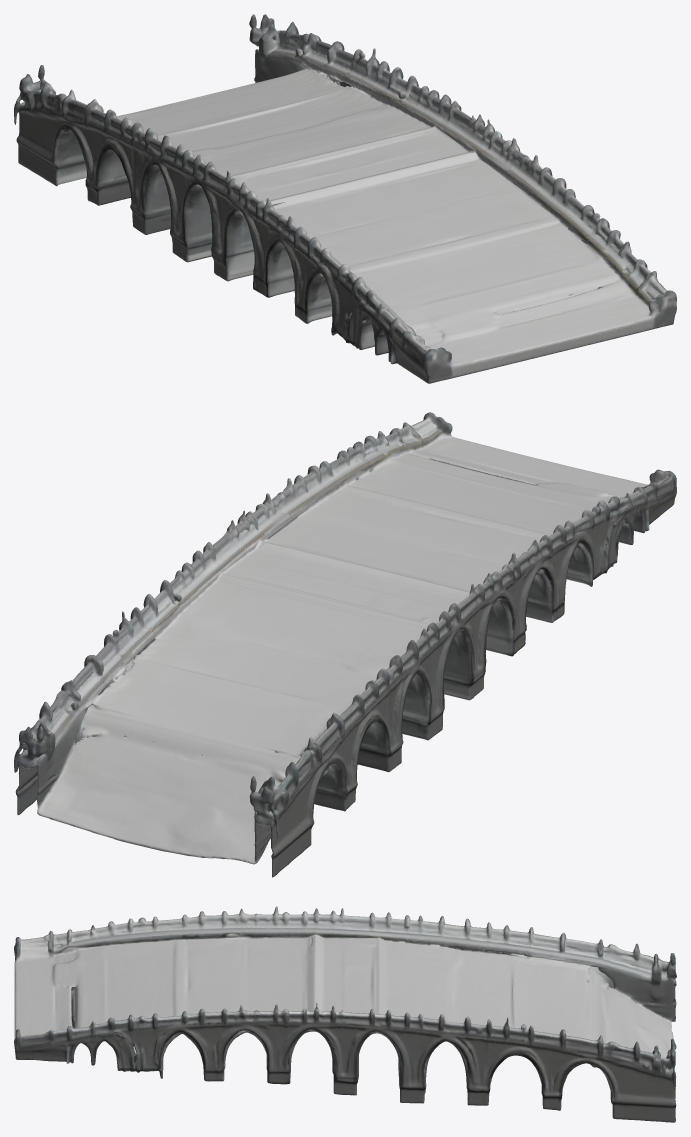
File: lugou-bridge.glb
The picture shows the model from 3 angles, top to bottom: view 1: azimuth 30°, elevation 25°; view 2: azimuth 150°, elevation 25°; view 3: azimuth 270°, elevation 25°; orthographic projection. The views are drawn at different scales.
Visible parts, largest first — view 1: tripo_node_608aade4-a2f9-43ad-8853-67d64362144b; view 2: tripo_node_608aade4-a2f9-43ad-8853-67d64362144b; view 3: tripo_node_608aade4-a2f9-43ad-8853-67d64362144b.
Boxes of the visible parts, x1,y1,x2,y2 form: tripo_node_608aade4-a2f9-43ad-8853-67d64362144b: [14, 14, 676, 383]; tripo_node_608aade4-a2f9-43ad-8853-67d64362144b: [14, 412, 676, 877]; tripo_node_608aade4-a2f9-43ad-8853-67d64362144b: [14, 906, 676, 1122].
Bounding box in the file's own units: 0.3761 × 0.1977 × 1.
1 material, 1 textured.
